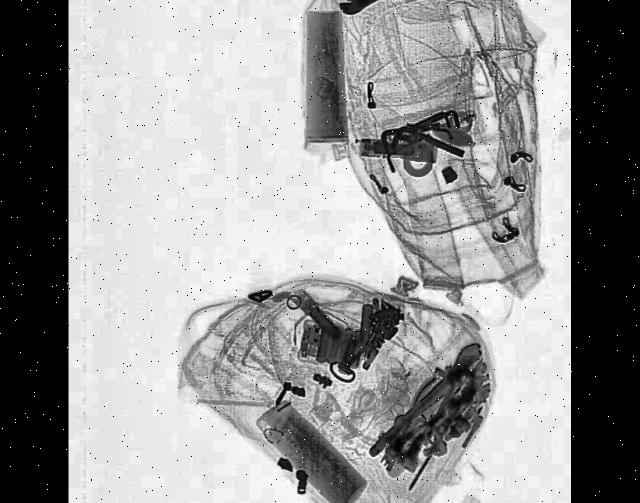Wrench: (363, 334, 488, 469), (337, 0, 479, 16)
